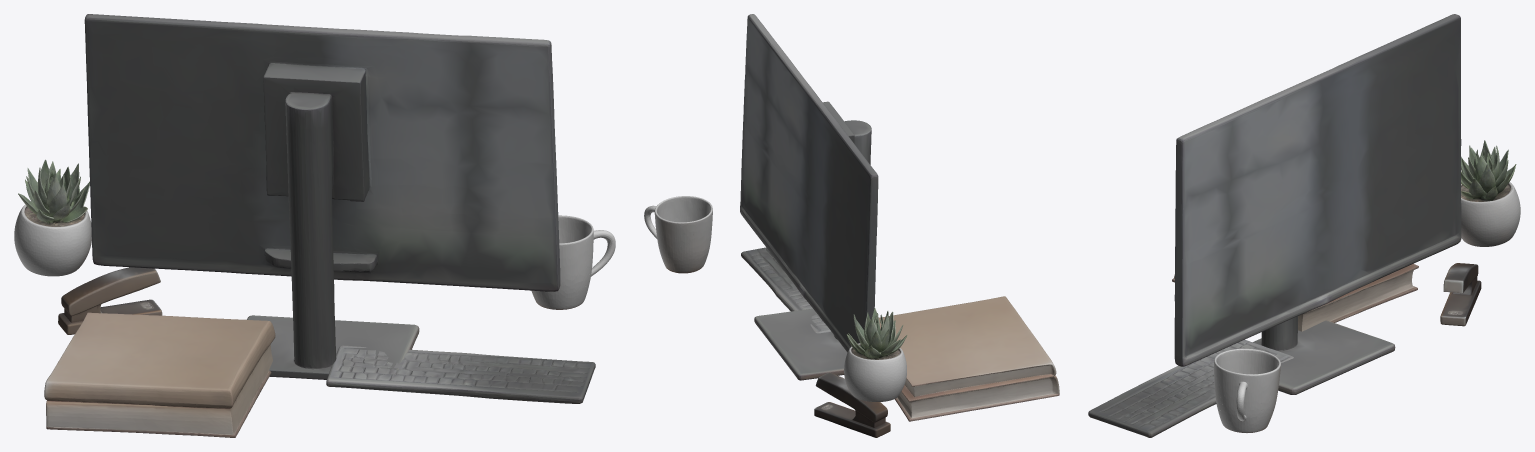
File: sam3d.glb
3 renders of one model, left to right at view 1: azimuth 30°, elevation 25°; view 2: azimuth 150°, elevation 25°; view 3: azimuth 270°, elevation 25°, orthographic. The views are drawn at different scales.
Parts seen in each view (by area): view 1: object_05, object_04, object_02, object_03, object_00, object_01; view 2: object_05, object_04, object_03, object_00, object_01, object_02; view 3: object_05, object_02, object_03, object_00, object_04, object_01.
Boxes of the visible parts, box(x1,y1,x2,y2) form: object_05: box(84, 14, 560, 379); object_04: box(44, 312, 275, 437); object_02: box(326, 345, 595, 403); object_03: box(14, 159, 91, 276); object_00: box(531, 215, 615, 309); object_01: box(58, 267, 162, 334); object_05: box(740, 14, 878, 380); object_04: box(878, 296, 1059, 421); object_03: box(844, 308, 907, 401); object_00: box(644, 196, 712, 273); object_01: box(814, 372, 890, 437); object_02: box(741, 247, 830, 333); object_05: box(1174, 14, 1461, 394); object_02: box(1088, 339, 1293, 437); object_03: box(1461, 140, 1520, 246); object_00: box(1214, 348, 1280, 432); object_04: box(1172, 263, 1418, 331); object_01: box(1440, 263, 1481, 326).
Size of the model in its own units: 0.9849 by 0.5725 by 0.7593.
